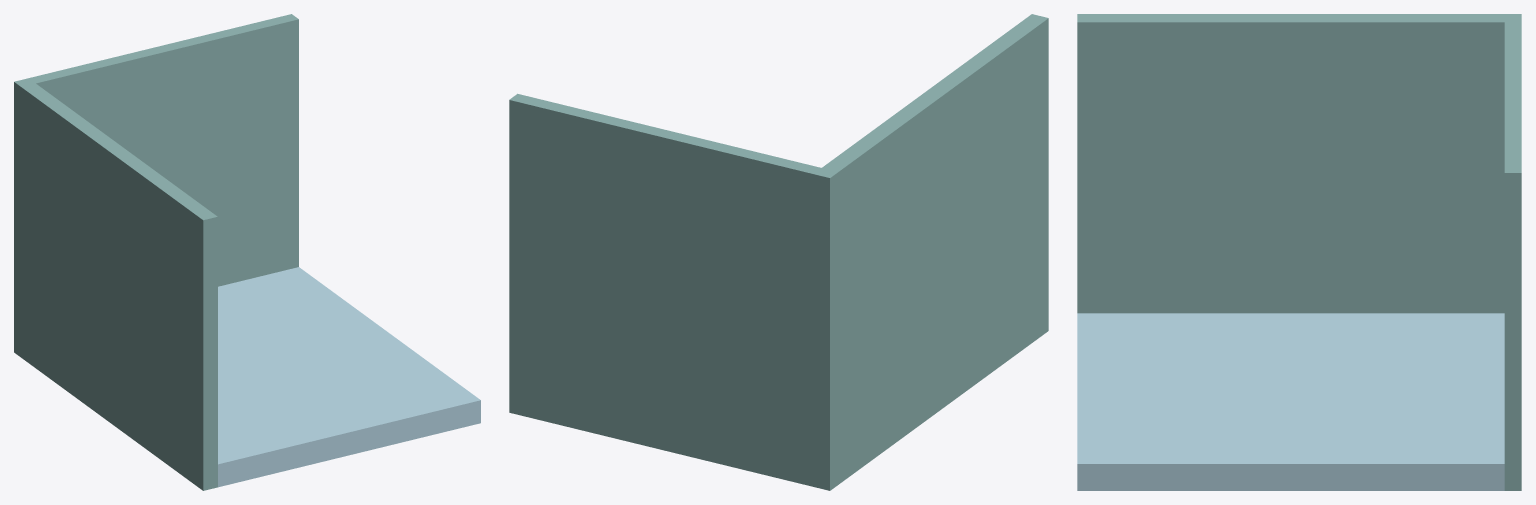
The model's file is sala 1.fbx.
3 renders of one model, left to right at view 1: azimuth 30°, elevation 25°; view 2: azimuth 150°, elevation 25°; view 3: azimuth 270°, elevation 25°, orthographic. The views are drawn at different scales.
Parts seen in each view (by area): view 1: paredes; view 2: paredes; view 3: paredes.
Boxes of the visible parts, left/top/right/bottom form: paredes: left=14, top=14, right=480, bottom=490; paredes: left=509, top=14, right=1048, bottom=490; paredes: left=1077, top=14, right=1521, bottom=490.
Size of the model in its own units: 680 by 634 by 803.
